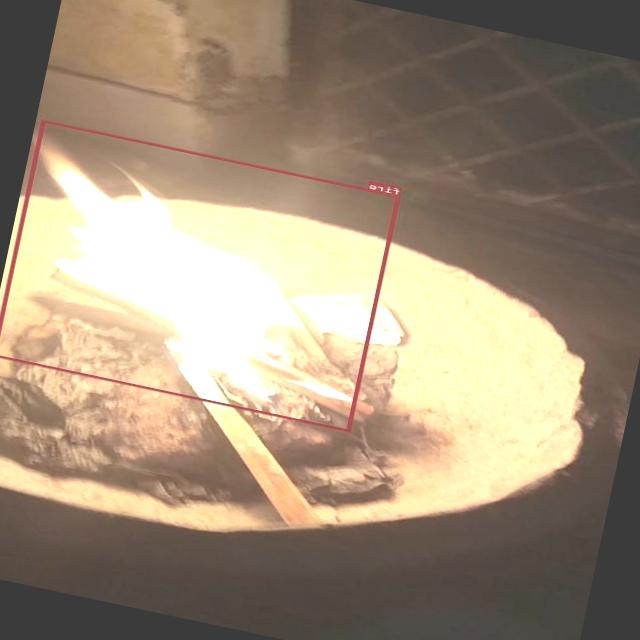fire: (0, 119, 401, 432)
